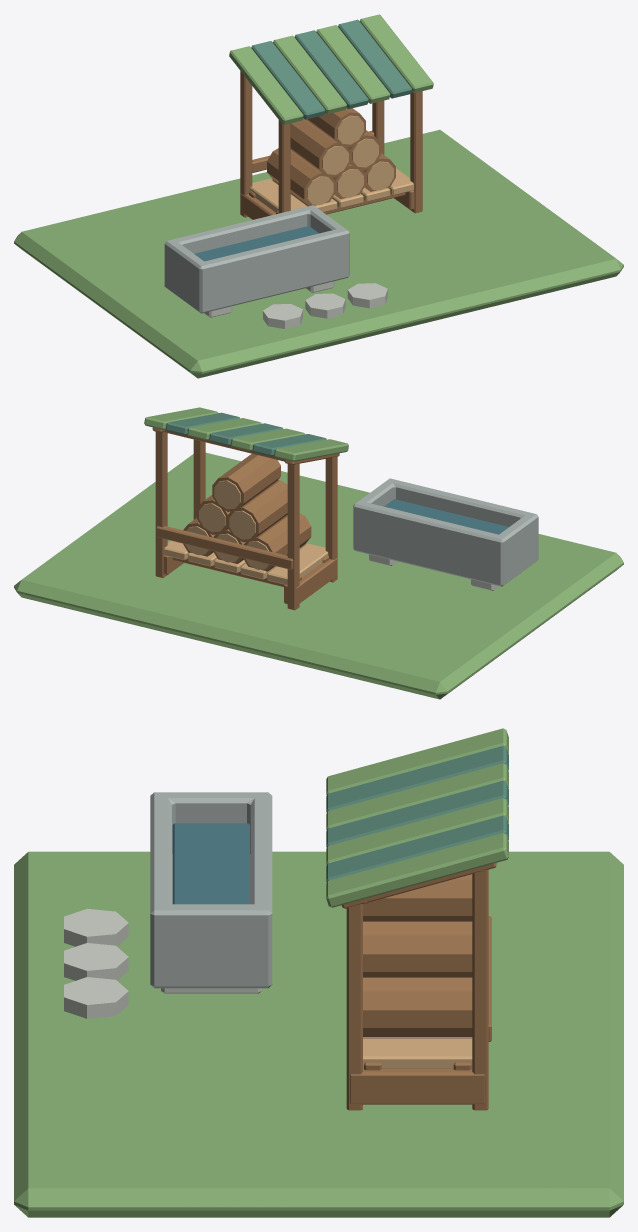
3 renders of one model, top to bottom at view 1: azimuth 30°, elevation 25°; view 2: azimuth 150°, elevation 25°; view 3: azimuth 270°, elevation 25°, orthographic. The views are drawn at different scales.
Parts seen in each view (by area): view 1: village-farm-workyard-01; view 2: village-farm-workyard-01; view 3: village-farm-workyard-01.
Part boxes in pixels (box(x1,y1,x2,y2)): village-farm-workyard-01: box(14, 14, 623, 378); village-farm-workyard-01: box(14, 407, 623, 699); village-farm-workyard-01: box(14, 728, 623, 1217).
Bounding box in the file's own units: 4.6 × 1.82 × 3.4.
